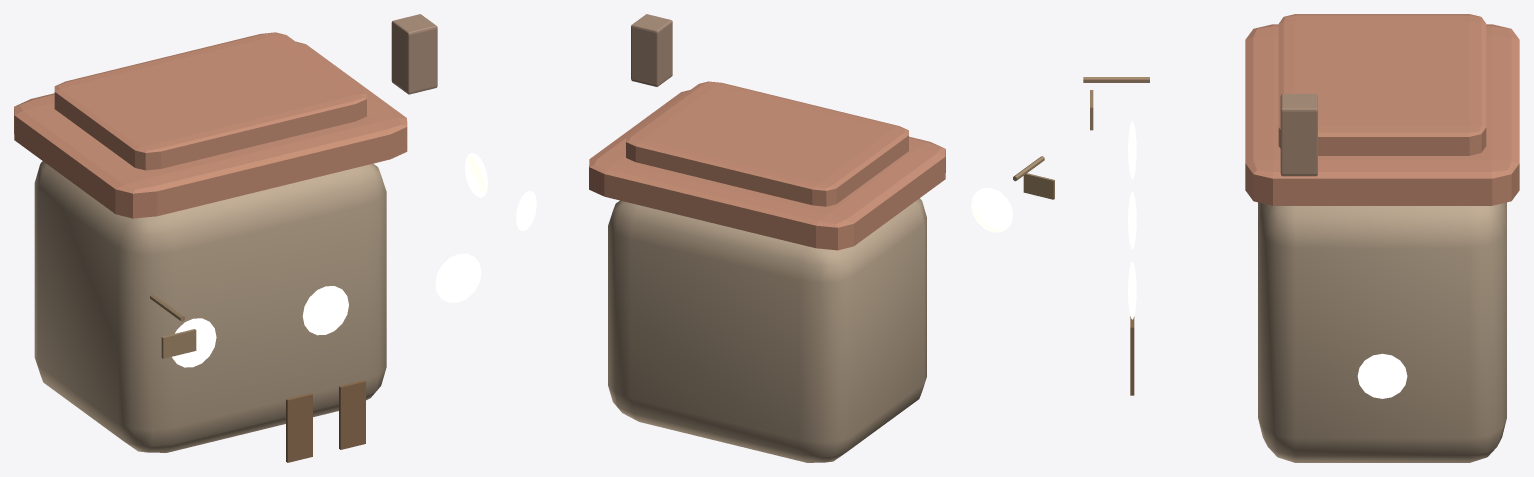
The model's file is tavern_01.glb.
The picture shows the model from 3 angles, left to right: view 1: azimuth 30°, elevation 25°; view 2: azimuth 150°, elevation 25°; view 3: azimuth 270°, elevation 25°; orthographic projection. The views are drawn at different scales.
Visible parts, largest first — view 1: TavernBody, RoofPeak, TavernRoof, TavernChimney, Win_2.0, Win_0, Door_-0.4, Door_0.4, Win_-2.0, SignBoard, SideWin; view 2: TavernBody, RoofPeak, TavernRoof, TavernChimney, Win_-2.0, SignBoard, SideWin; view 3: TavernBody, RoofPeak, TavernRoof, TavernChimney, SideWin.
Part boxes in pixels (x1,y1,x2,y2): TavernBody: (34,161,386,452); RoofPeak: (54,32,366,170); TavernRoof: (14,41,407,218); TavernChimney: (391,14,437,94); Win_2.0: (435,253,481,302); Win_0: (302,286,348,335); Door_-0.4: (286,393,312,462); Door_0.4: (339,380,365,449); Win_-2.0: (172,318,216,367); SignBoard: (161,329,196,358); SideWin: (465,153,487,197); TavernBody: (608,198,926,462); RoofPeak: (626,81,908,206); TavernRoof: (589,90,945,250); TavernChimney: (631,14,672,86); Win_-2.0: (971,188,1013,232); SignBoard: (1023,173,1054,199); SideWin: (516,191,536,231); TavernBody: (1258,202,1506,462); RoofPeak: (1278,14,1486,155); TavernRoof: (1245,24,1519,205); TavernChimney: (1280,94,1317,176); SideWin: (1357,353,1407,398).
Size of the model in its own units: 6.81 by 5.25 by 5.25.
